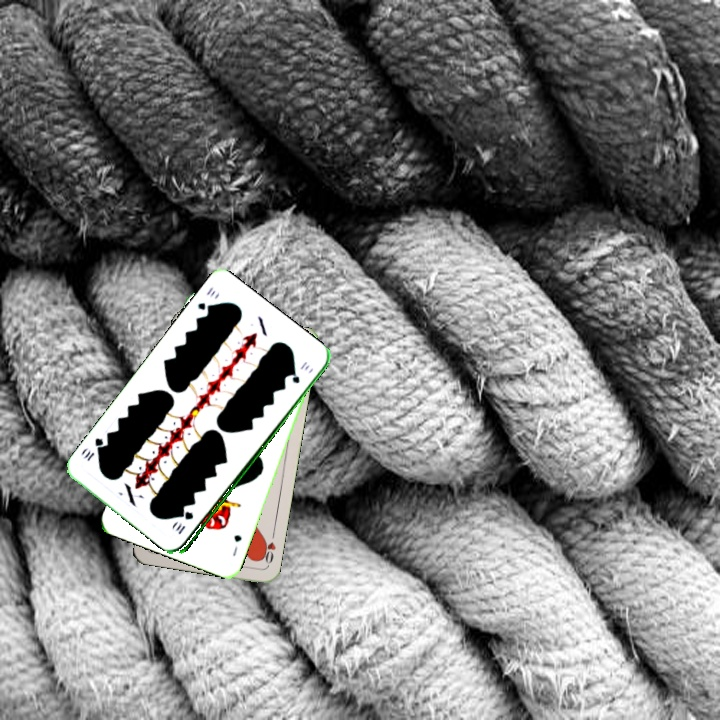G10: (193, 283, 218, 316), (171, 508, 196, 537)
GU: (228, 530, 244, 559)
HO: (257, 528, 278, 568)
